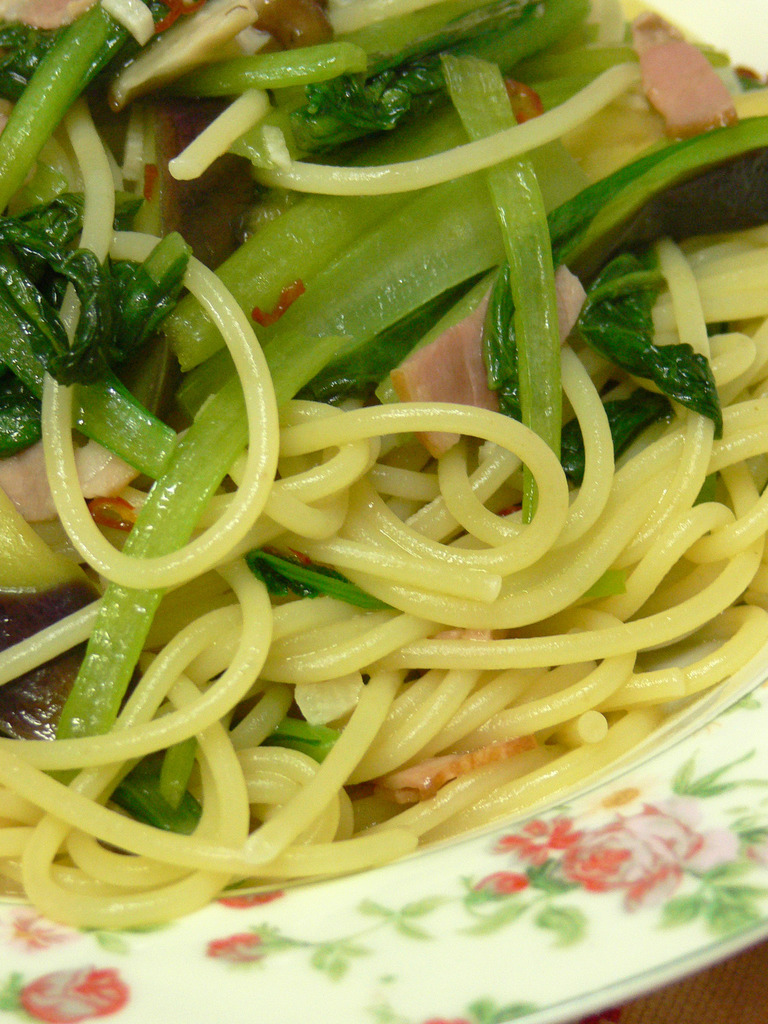pasta: (1, 0, 762, 989)
